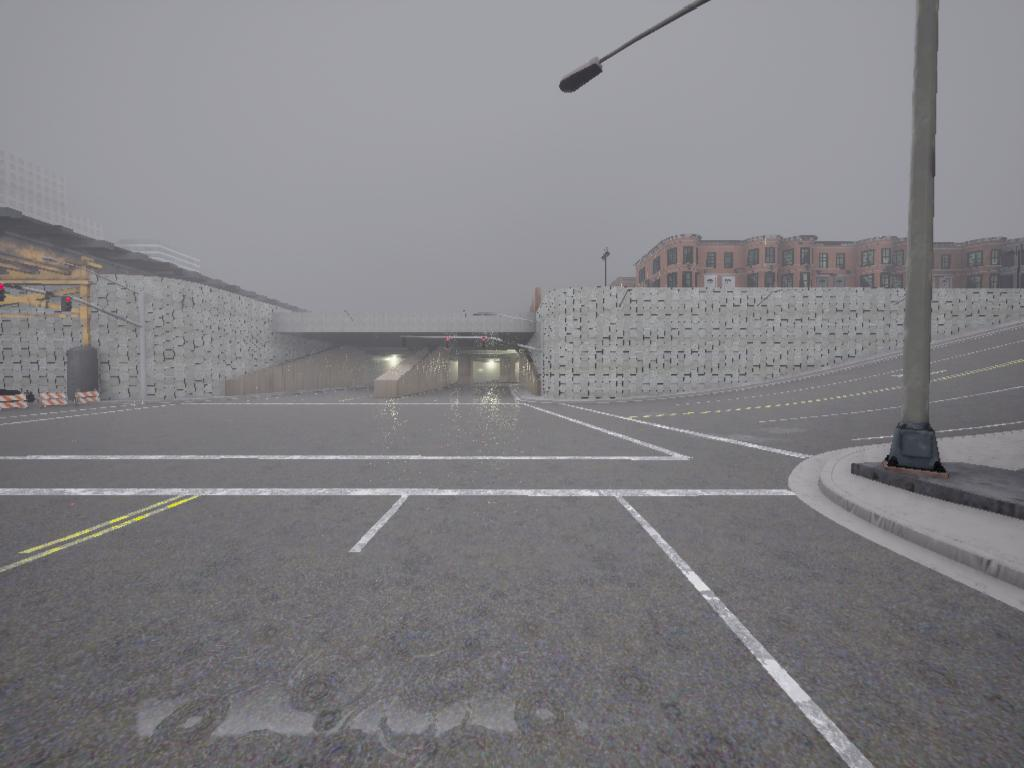traffic_light: (60, 291, 76, 314), (1, 282, 10, 310), (445, 338, 451, 351), (482, 337, 487, 351), (403, 337, 407, 350)
